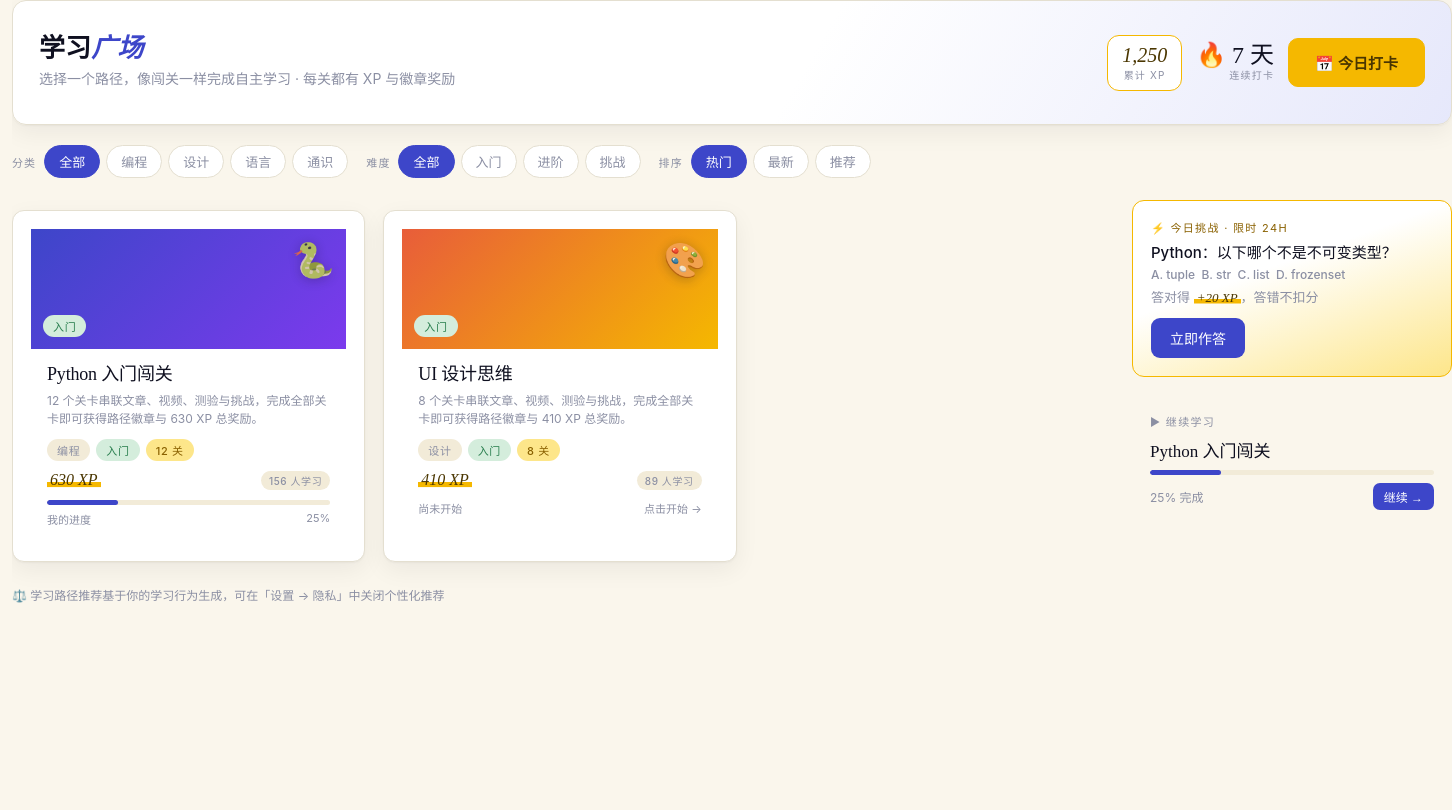
Test: LearningPlaza › filters paths by category
Note: Click "编程" filter
Click the button "编程": coordinates (134, 162) [106,145,162,178]
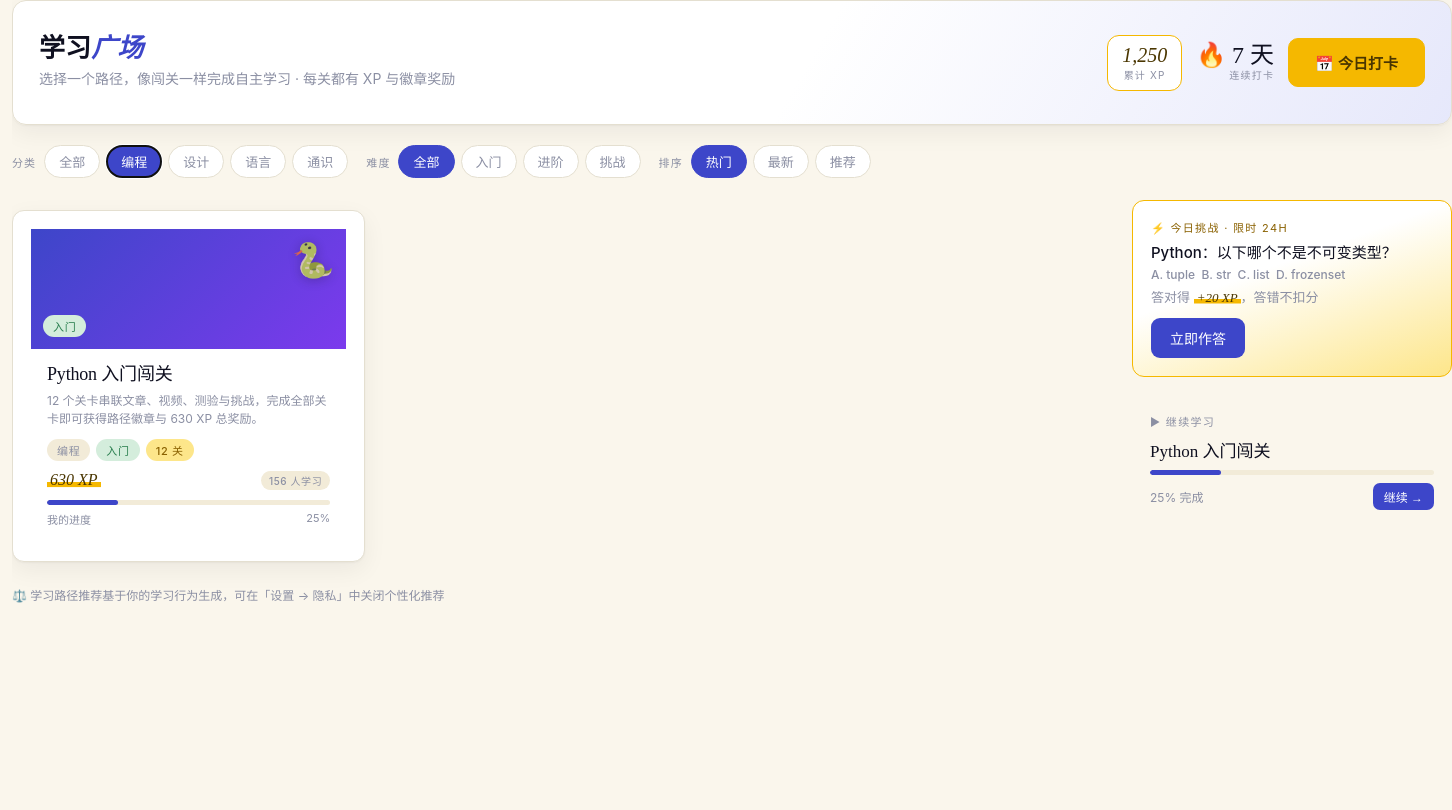
Now the text "UI 设计思维" is gone
